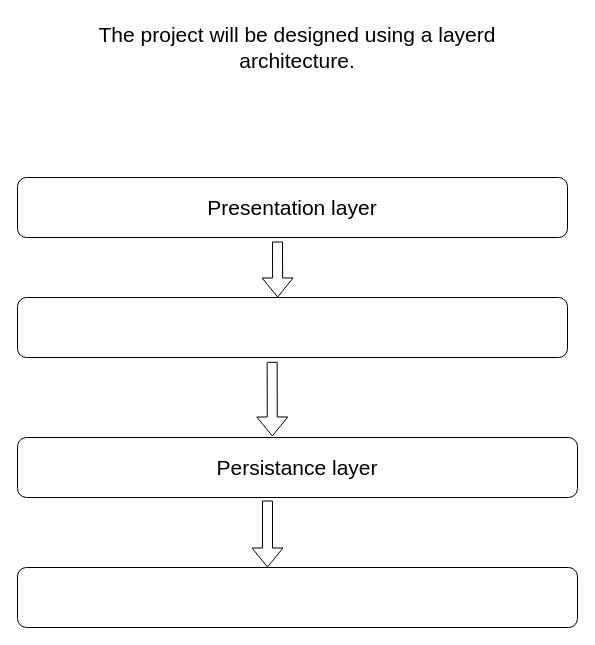
The diagram is 595 pixels wide and 645 high, and some of its shapes have lost their labels. The centre of each missing label's shape, as x and y in pixels:
Business layer: point (292, 327)
Database layer: point (297, 597)
